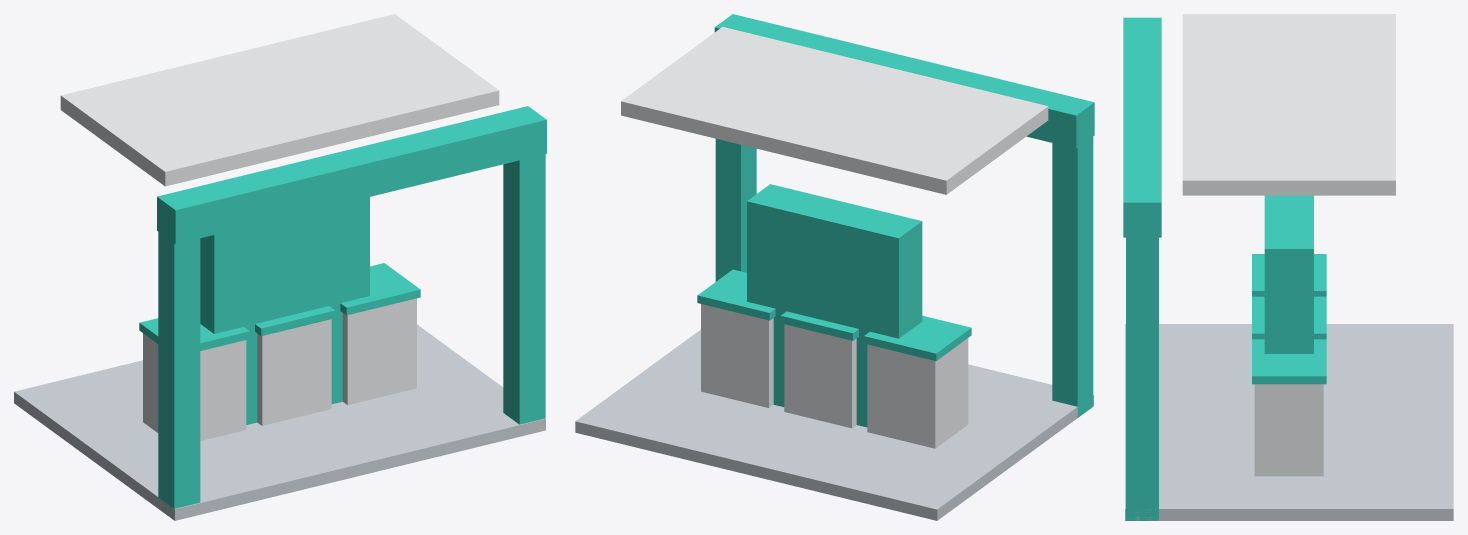
3 renders of one model, left to right at view 1: azimuth 30°, elevation 25°; view 2: azimuth 150°, elevation 25°; view 3: azimuth 270°, elevation 25°, orthographic. The views are drawn at different scales.
Parts seen in each view (by area): view 1: Exhibition Booth Concept; view 2: Exhibition Booth Concept; view 3: Exhibition Booth Concept.
Part boxes in pixels (<box>): Exhibition Booth Concept: <box>14,14,546,520</box>; Exhibition Booth Concept: <box>575,14,1094,520</box>; Exhibition Booth Concept: <box>1123,14,1453,520</box>.
Bounding box in the file's own units: 4 × 3.34 × 3.01.
